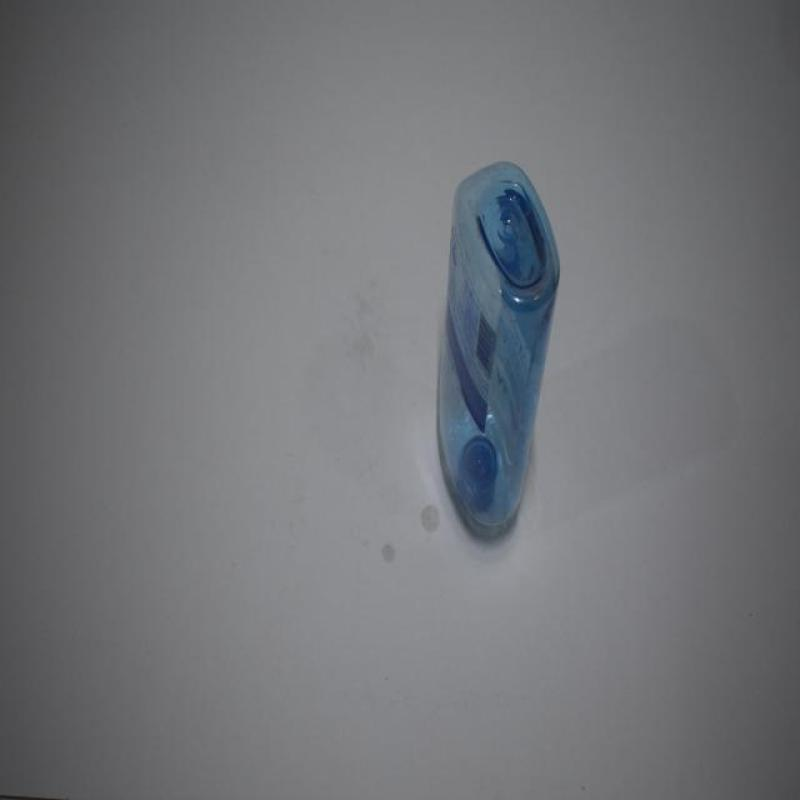botella: (433, 158, 561, 546)
